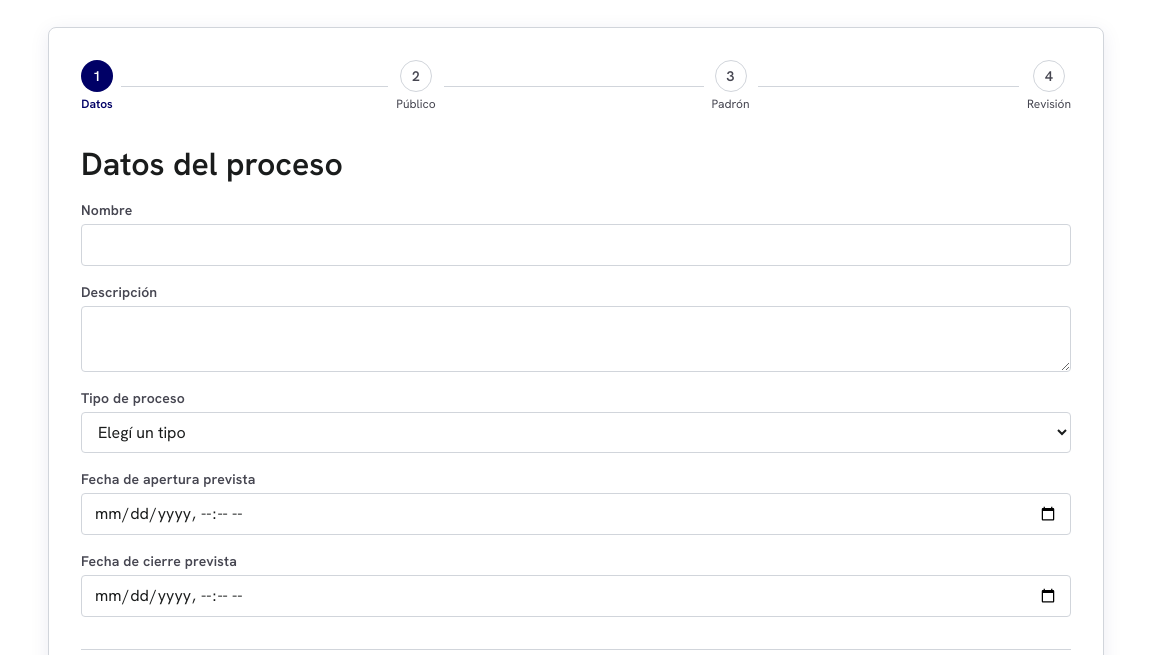
Test: ProcesoWizardPage › navegar de paso 1 a paso 2 preserva el estado tecleado
The image size is (1152, 655).
In the field labelled "Nombre": (576, 245) [81,224,1071,266], type "Elección de comité 2026"
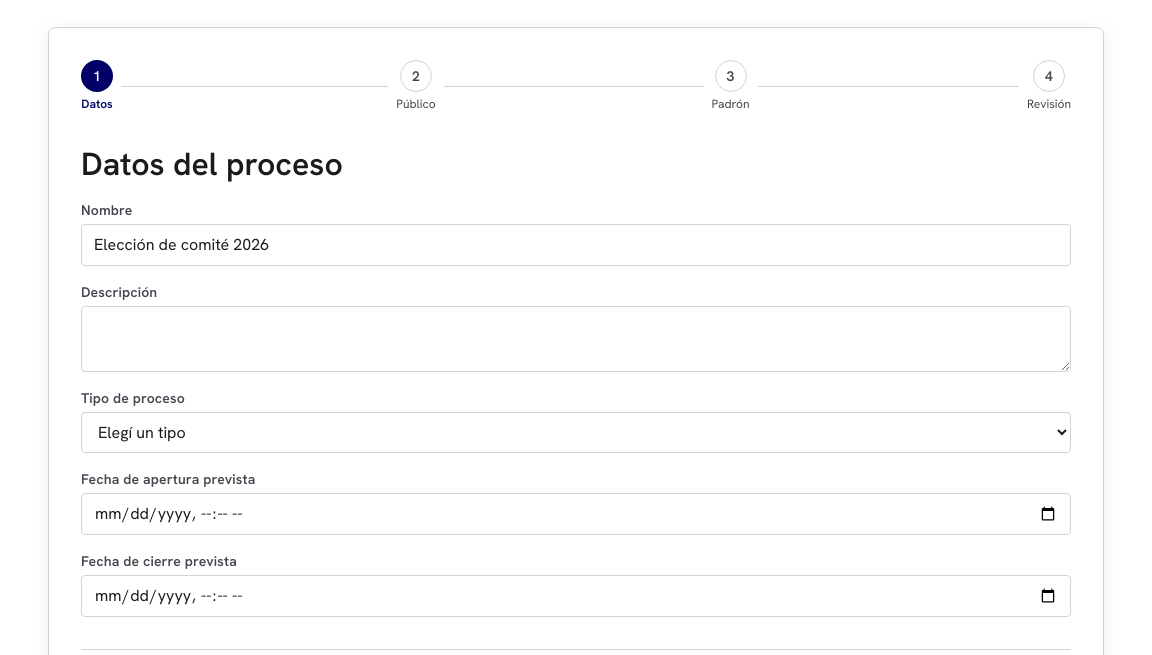
Select "Municipio escolar" in the dropdown labelled "Tipo de proceso": (576, 432) [81,412,1071,453]
(page scrolled)
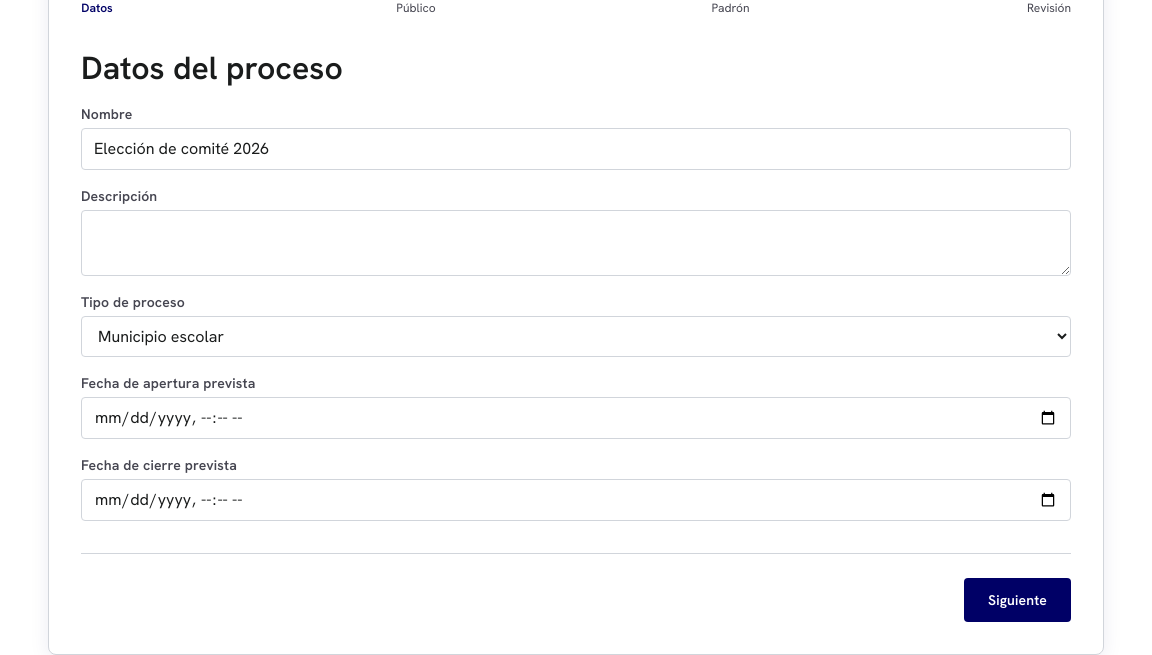
Click the button "Siguiente": (1018, 600) [964,578,1071,622]
(page scrolled)
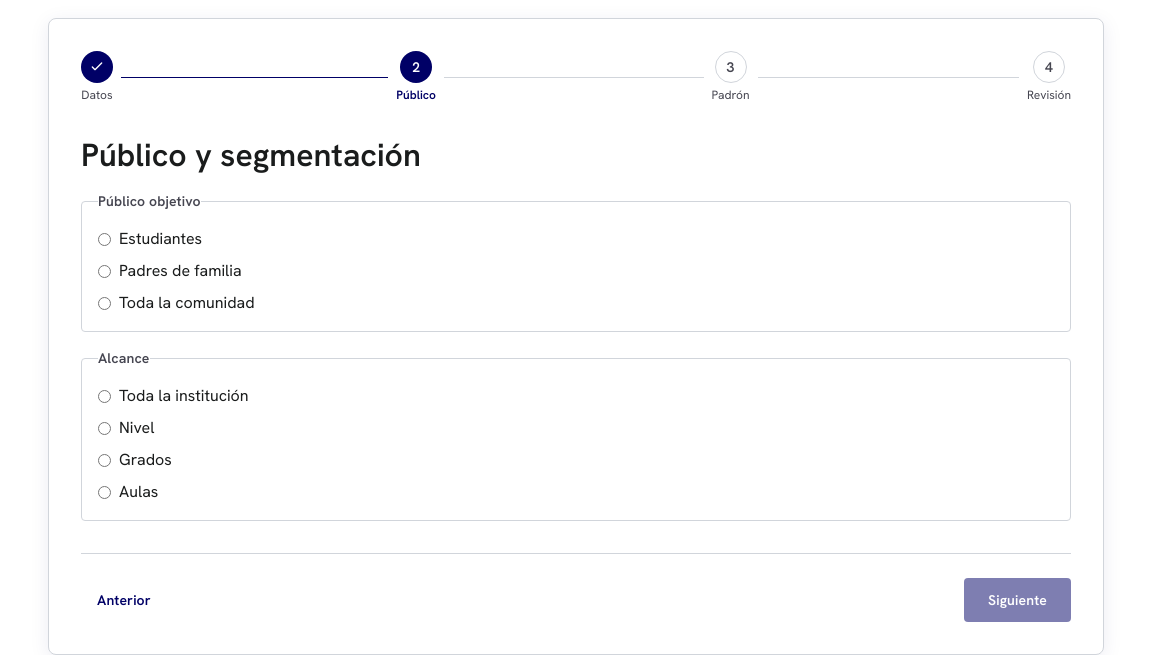
Expected: the heading "Público y segmentación" is shown, [81,134,421,176]
Click the button "Anterior": (124, 600) [81,578,167,622]
(page scrolled)
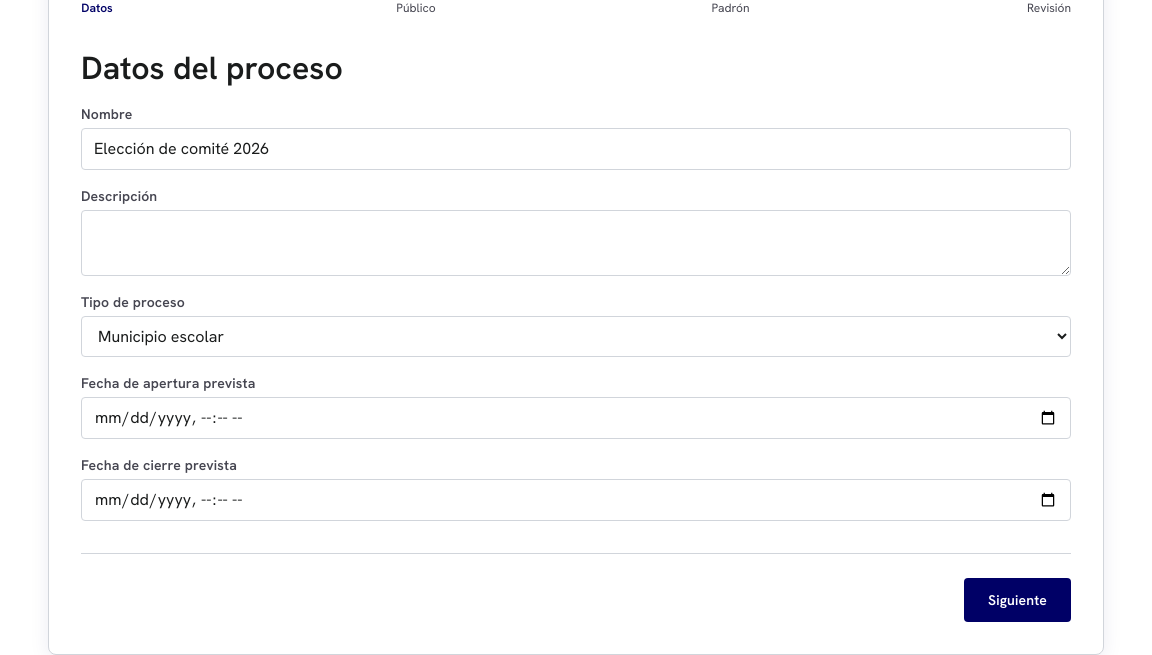
Expected: the field labelled "Nombre" holds "Elección de comité 2026", [81,128,1071,170]
Expected: the dropdown labelled "Tipo de proceso" shows "Municipio escolar", [81,316,1071,357]
